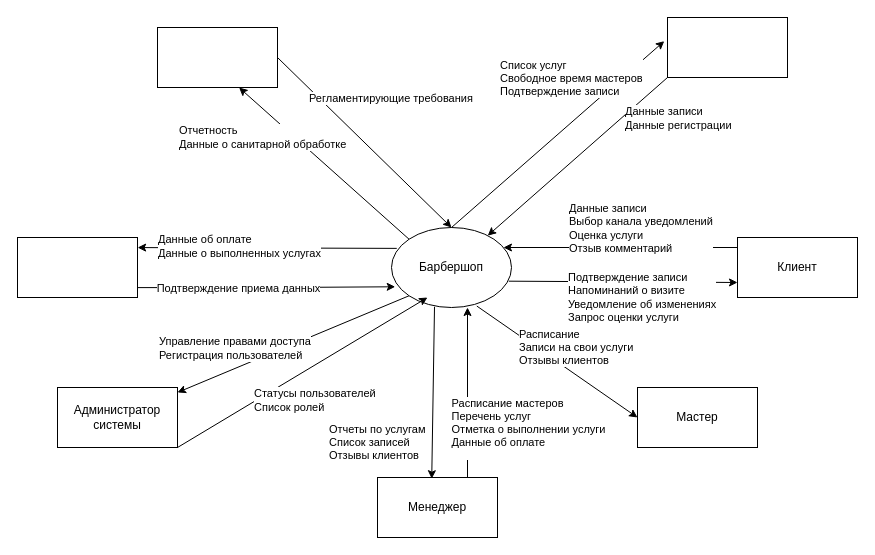
This 875x555 diagram has some shape labels left out. The shapes that lost their labels are listed below. From the top down, each one's box as (x1, y1, x2, y2) in pixels, then its label:
(156, 26, 278, 88): Санэпиднадзор
(666, 16, 788, 78): Посетитель
(16, 236, 138, 298): Бухгалтерия
